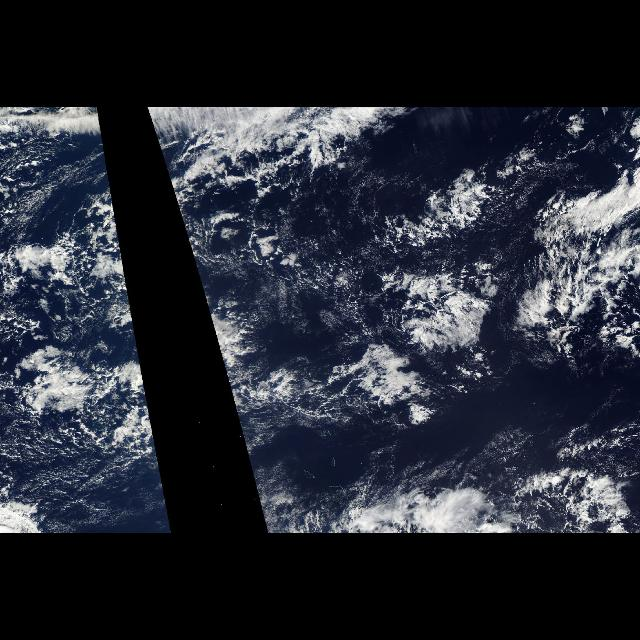Gravel: (3, 413, 173, 521)
Sugar: (202, 237, 402, 331)
